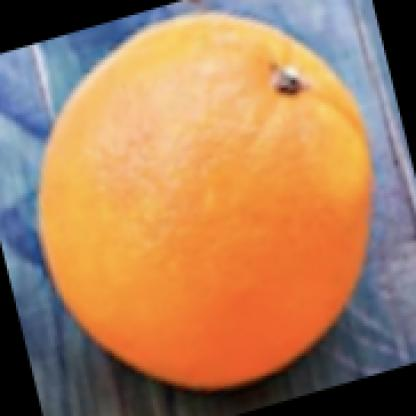fresh: (40, 15, 372, 391)
